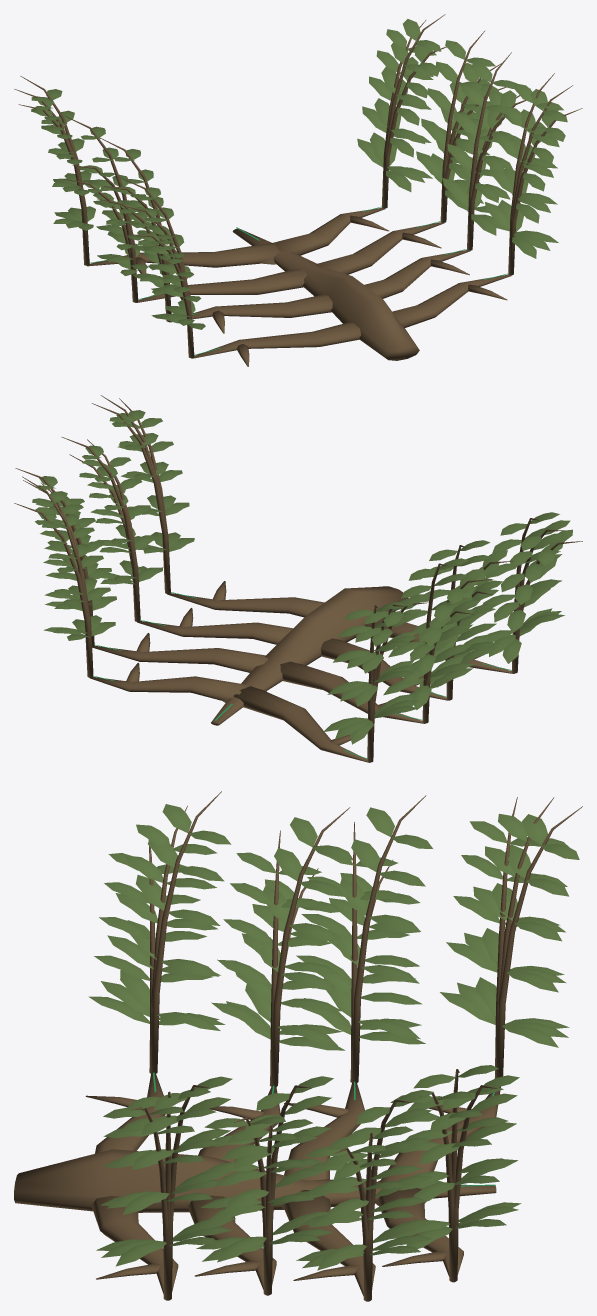
File: green-root-fan.glb
3 renders of one model, top to bottom at view 1: azimuth 30°, elevation 25°; view 2: azimuth 150°, elevation 25°; view 3: azimuth 270°, elevation 25°, orthographic. The views are drawn at different scales.
Visible parts, largest first — view 1: LAND05 green-root-fan; view 2: LAND05 green-root-fan; view 3: LAND05 green-root-fan.
Part boxes in pixels (x1,y1,x2,y2): LAND05 green-root-fan: (14,14,582,366); LAND05 green-root-fan: (14,395,582,762); LAND05 green-root-fan: (14,791,582,1301).
Size of the model in its own units: 7.18 by 2.86 by 5.47.
